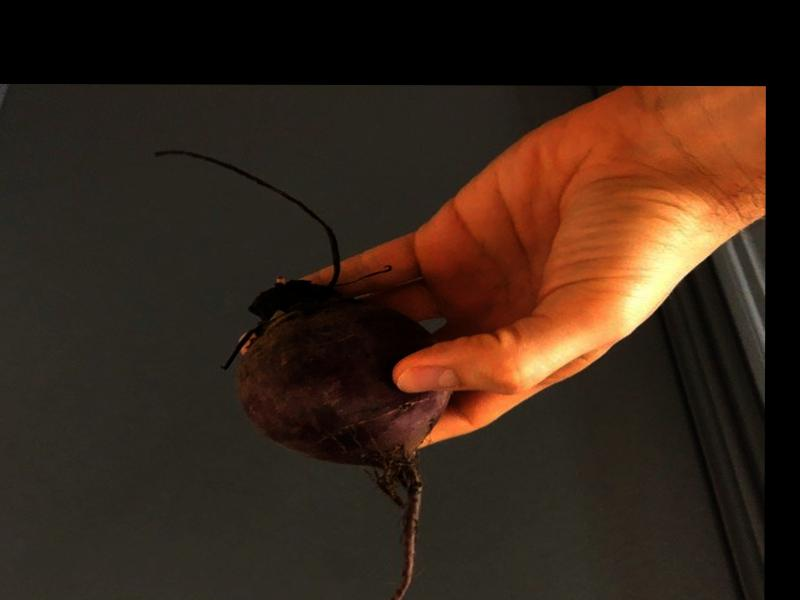Beet: (149, 150, 452, 600)
